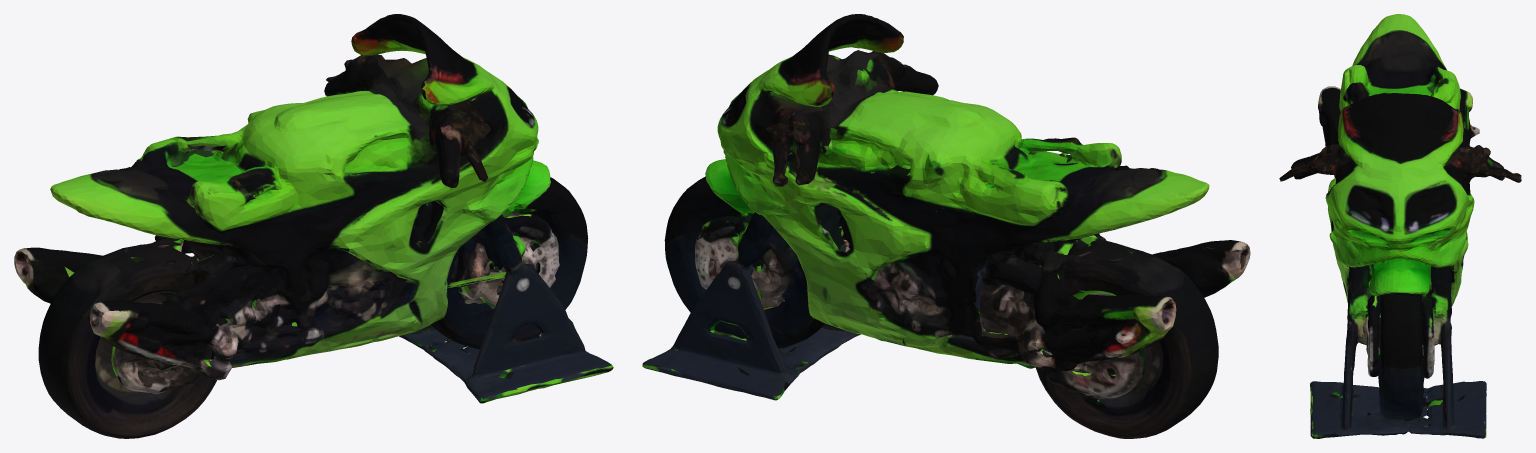
File: moto_zx.glb
3 views of the same model, side by side, from view 1: azimuth 30°, elevation 25°; view 2: azimuth 150°, elevation 25°; view 3: azimuth 270°, elevation 25° (orthographic). The views are drawn at different scales.
Visible parts, largest first — view 1: rk_moto_zx_1790347764.obj; view 2: rk_moto_zx_1790347764.obj; view 3: rk_moto_zx_1790347764.obj.
Boxes of the visible parts, x1,y1,x2,y2 form: rk_moto_zx_1790347764.obj: (14,14,613,438); rk_moto_zx_1790347764.obj: (642,14,1250,438); rk_moto_zx_1790347764.obj: (1279,14,1521,438).
Bounding box in the file's own units: 1.77 × 1.1 × 0.8351.
Materials: 1 (1 with a texture image).
